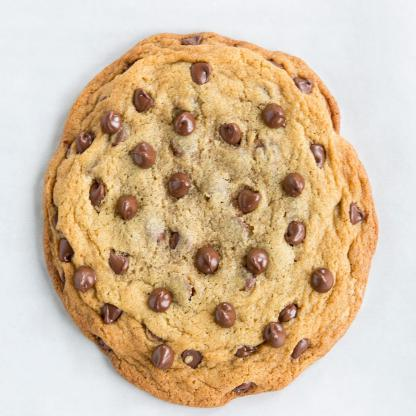cookie: (44, 30, 374, 398)
